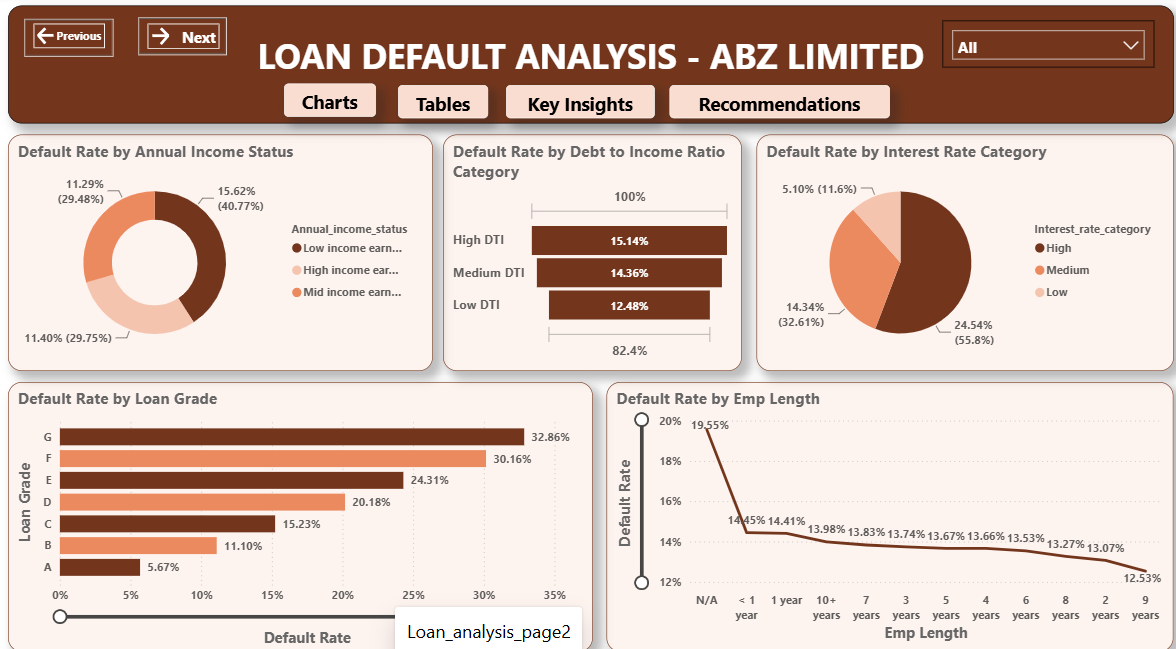

The dashboard page shown, as its layout file describes it:
{"tool":"powerbi","page":{"name":"Loan_analysis_page2","canvas":[1280,720],"ordinal":1},"visuals":[{"type":"textbox","box":[9.5,11,1258.5,127],"z":0},{"type":"slicer","fields":{"Values":["Loan_Info.Application_Type"]},"box":[1019.1,26.8,228.4,50.4],"z":1000},{"type":"actionButton","box":[26.8,25.2,96.1,41],"z":2000},{"type":"actionButton","box":[37.8,31.5,77.2,26.8],"z":3000},{"type":"actionButton","box":[307.1,96.1,99.2,36.2],"z":4000},{"type":"actionButton","box":[430,97.7,97.7,36.2],"z":5000},{"type":"actionButton","box":[546.6,97.7,160.7,36.2],"z":6000},{"type":"actionButton","box":[724.5,97.7,237.8,36.2],"z":7000},{"type":"donutChart","title":"Default Rate by Annual Income Status","fields":{"Category":["Loan_Info.Annual_income_status"],"Y":["Loan_Info.Default_Rate"]},"box":[9.5,151.2,458.3,255.2],"z":8000},{"type":"pieChart","title":"Default Rate by Interest Rate Category","fields":{"Category":["Loan_Info.Interest_rate_category"],"Y":["Loan_Info.Default_Rate"]},"box":[817.5,151.2,450.5,255.2],"z":9000},{"type":"funnel","title":"Default Rate by Debt to Income Ratio Category","fields":{"Category":["Loan_Info.Debt_to_income_ratio_category"],"Y":["Loan_Info.Default_Rate"]},"box":[478.8,151.2,322.9,255.2],"z":10000},{"type":"clusteredBarChart","title":"Default Rate by Loan Grade","fields":{"Category":["Loan_Info.Loan_Grade"],"Y":["Loan_Info.Default_Rate"]},"box":[9.7,417.8,631.5,291.5],"z":11000},{"type":"lineChart","title":"Default Rate by Emp Length","fields":{"Y":["Loan_Info.Default_Rate"],"Category":["Loan_Info.Emp_Length"]},"box":[655.8,417.8,612.1,291.5],"z":14000}]}

Visuals, with their boxes in screenshot pixels (x1, y1, x2, y2), scaled from the page's 1280x720 canvas onto the 1176x649 screenshot:
textbox: [x1=9, y1=10, x2=1165, y2=124]
slicer - Loan_Info.Application_Type: [x1=936, y1=24, x2=1146, y2=70]
actionButton: [x1=25, y1=23, x2=113, y2=60]
actionButton: [x1=35, y1=28, x2=106, y2=53]
actionButton: [x1=282, y1=87, x2=373, y2=119]
actionButton: [x1=395, y1=88, x2=485, y2=121]
actionButton: [x1=502, y1=88, x2=650, y2=121]
actionButton: [x1=666, y1=88, x2=884, y2=121]
"Default Rate by Annual Income Status" donutChart: [x1=9, y1=136, x2=430, y2=366]
"Default Rate by Interest Rate Category" pieChart: [x1=751, y1=136, x2=1165, y2=366]
"Default Rate by Debt to Income Ratio Category" funnel: [x1=440, y1=136, x2=737, y2=366]
"Default Rate by Loan Grade" clusteredBarChart: [x1=9, y1=377, x2=589, y2=639]
"Default Rate by Emp Length" lineChart: [x1=603, y1=377, x2=1165, y2=639]
